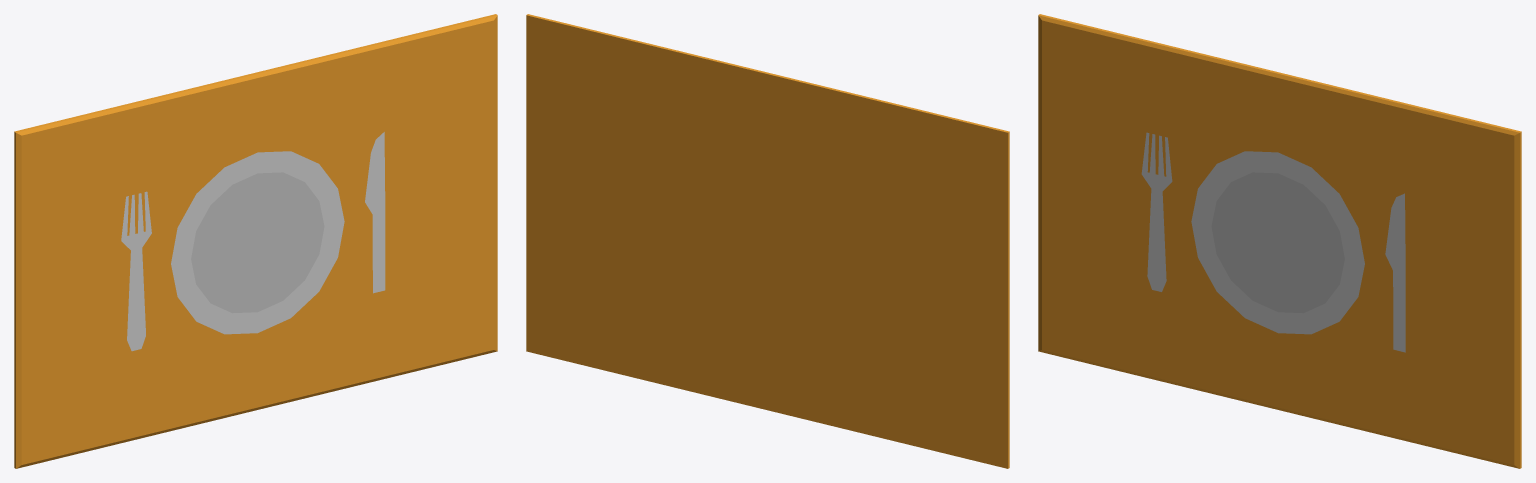
Rendered from Int_KitchenDecoration02_1.fbx.
The picture shows the model from 3 angles, left to right: view 1: azimuth 30°, elevation 25°; view 2: azimuth 150°, elevation 25°; view 3: azimuth 330°, elevation 25°; orthographic projection.
Visible parts, largest first — view 1: Int_KitchenDecoration02_1; view 2: Int_KitchenDecoration02_1; view 3: Int_KitchenDecoration02_1.
Boxes of the visible parts, x1=… form: Int_KitchenDecoration02_1: x1=14, y1=14, x2=497, y2=468; Int_KitchenDecoration02_1: x1=526, y1=14, x2=1009, y2=468; Int_KitchenDecoration02_1: x1=1038, y1=14, x2=1521, y2=468.
Size of what is drawn, in the model's own units: 262 by 2.5 by 175.
